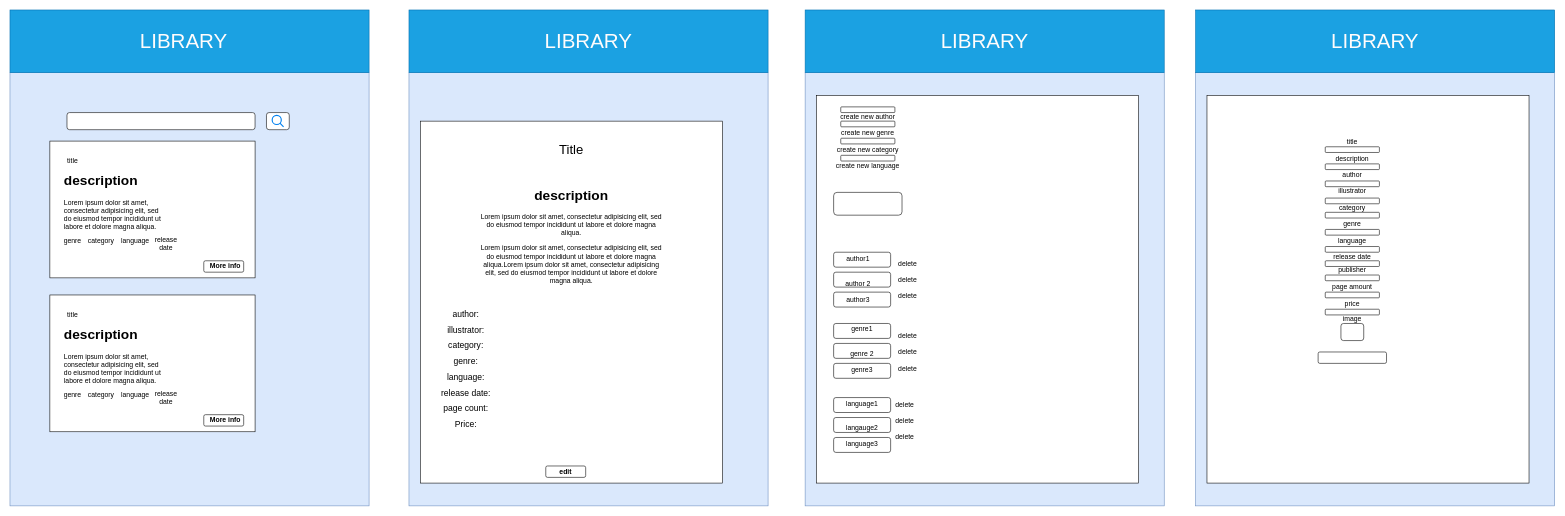
Image size: 1565x516. Some labels were removed from this diagram. Each missing label, with the box of its shape:
add new book: (833, 192, 902, 215)
create: (1318, 351, 1387, 363)
file: (1340, 323, 1364, 341)
SEARCH: (66, 112, 255, 130)
